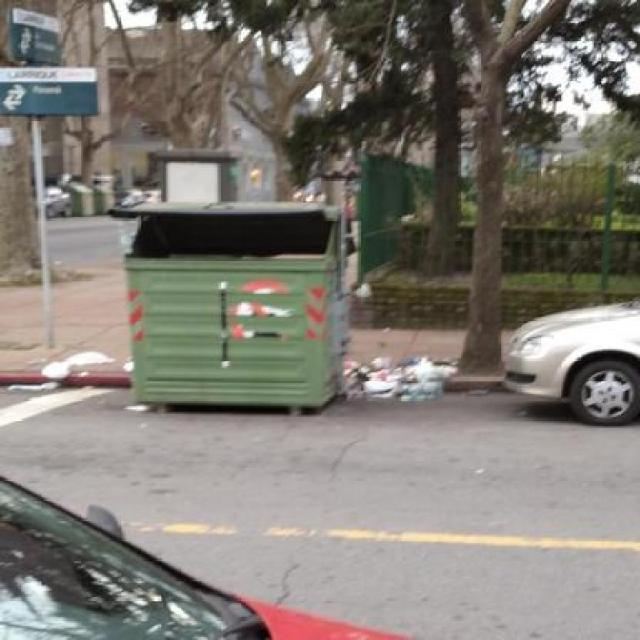garbage: (337, 277, 456, 434), (19, 334, 140, 416)
